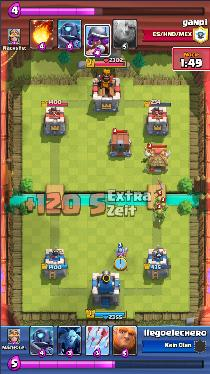ally_goblin_cage: (108, 132, 133, 157)
ally_musketeer: (114, 245, 128, 259)
enemy_goblin_hut: (144, 147, 170, 174)
enemy_spear_goblin: (153, 211, 165, 223), (160, 203, 168, 213), (155, 196, 163, 204)
